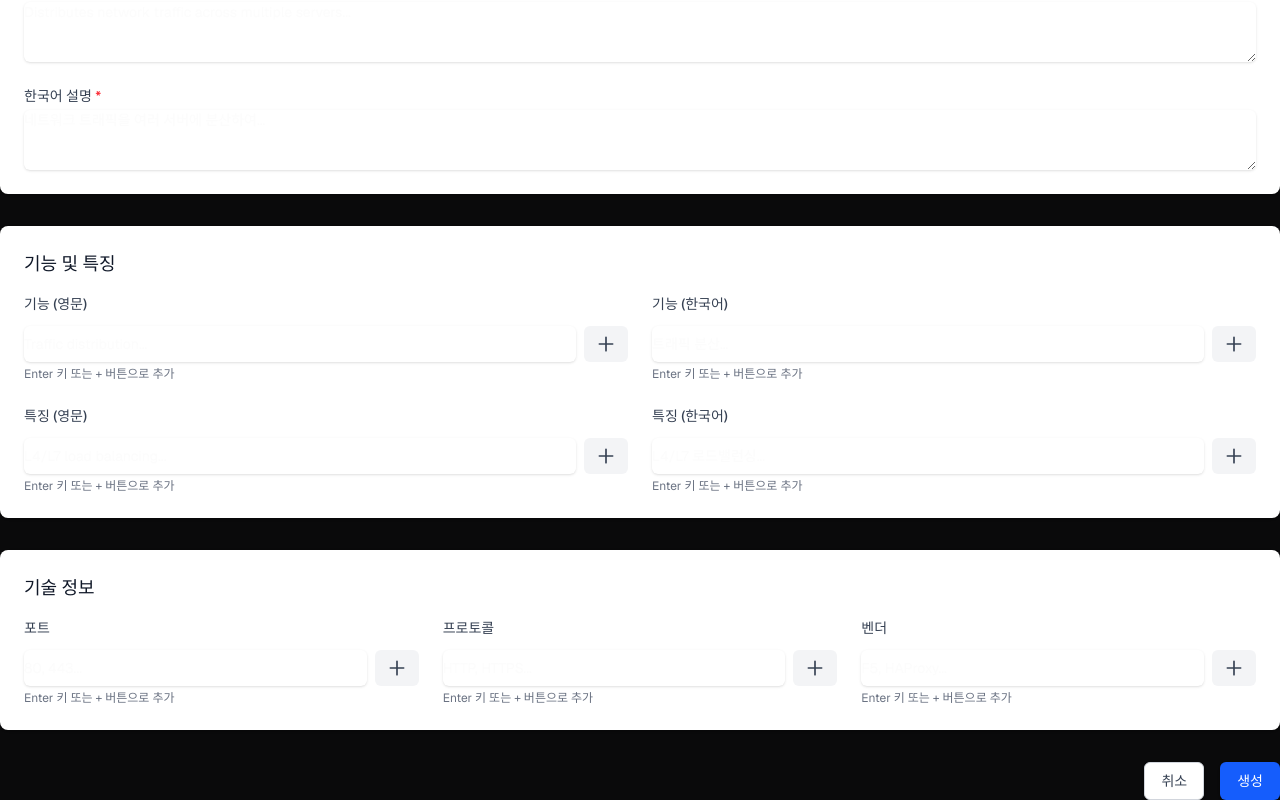
ComponentForm › Form Validation › should show error when componentId is empty
(page scrolled)
Click the button "생성". click: (1250, 781)
box: top-left (1220, 762), bottom-right (1279, 799)
(page scrolled)
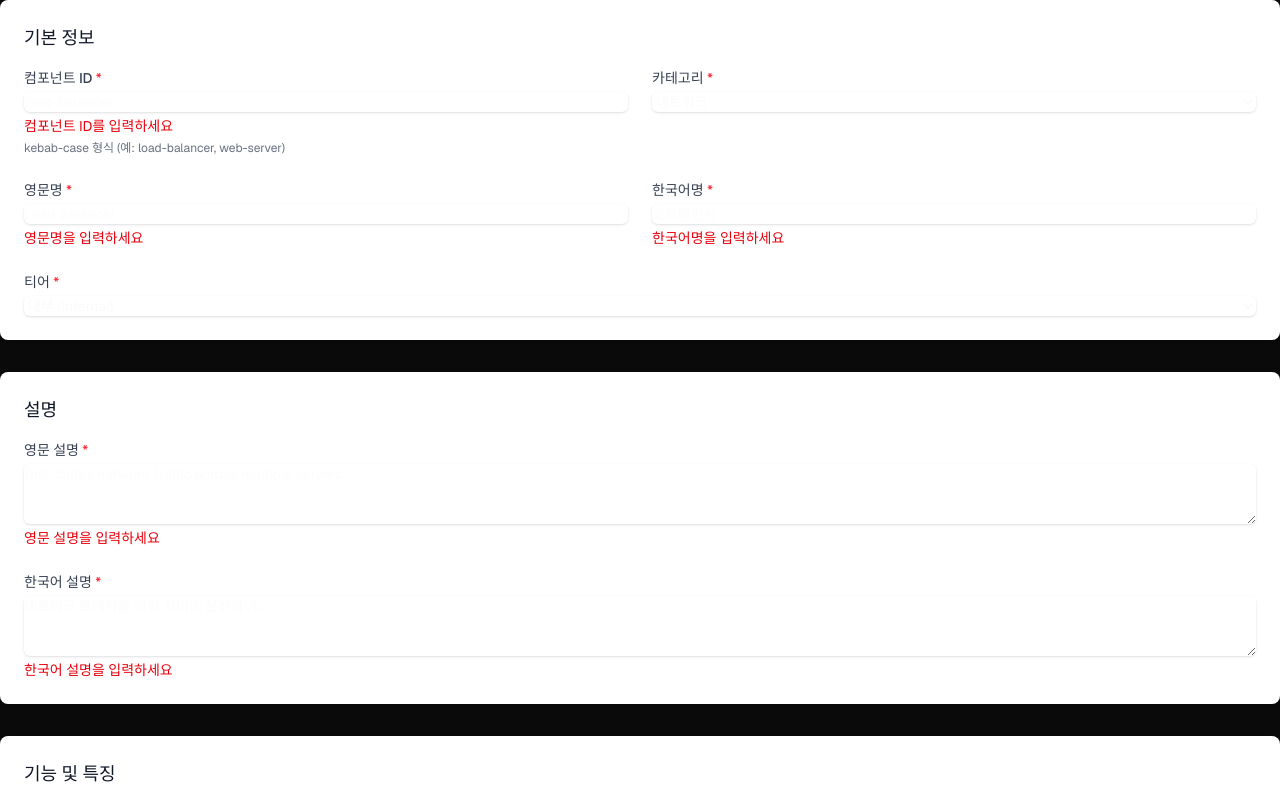
Check: the text "컴포넌트 ID를 입력하세요" is shown, box top-left (24, 117), bottom-right (173, 135)
